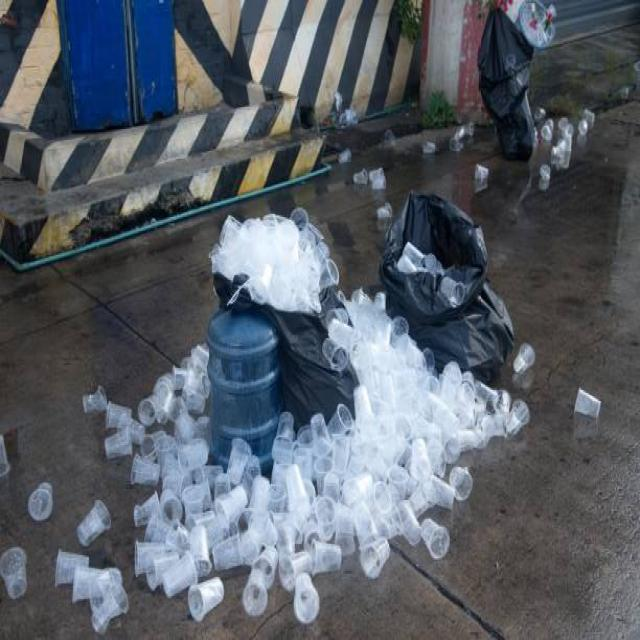plastic: (153, 446, 397, 586)
trash: (361, 190, 513, 376), (218, 214, 354, 413)
